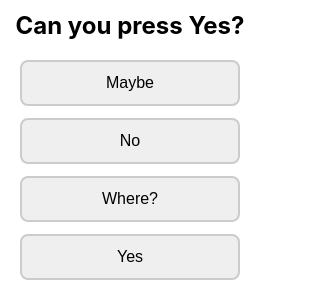
QuestionPage › Lets user select an answer and locks buttons
Click the button "Yes" at (130, 257), box [20,234,240,280]
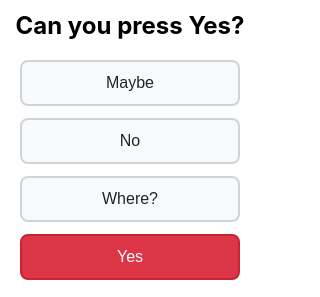
Now the button "Yes" is disabled, box [20,234,240,280]
